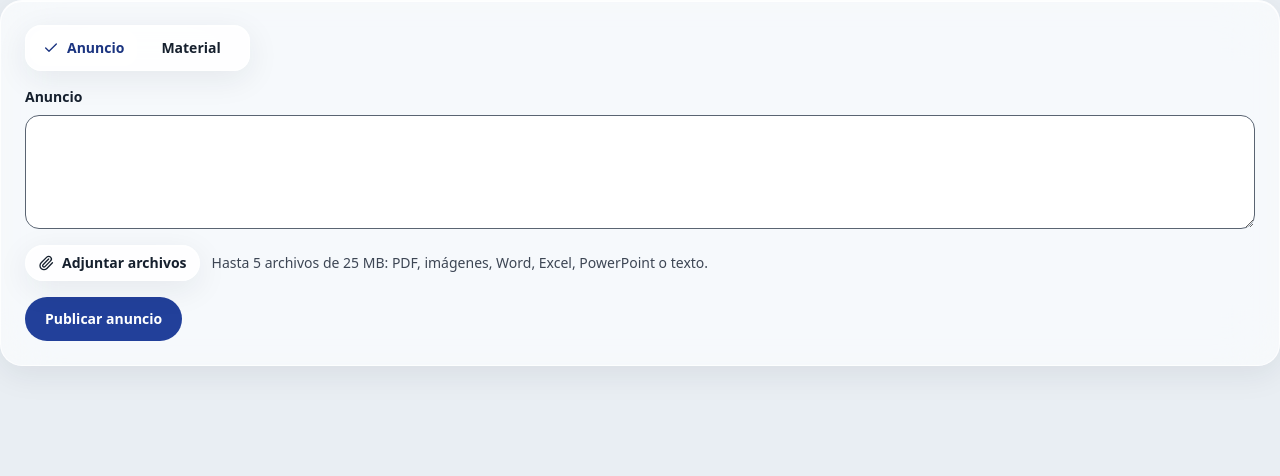
Scenario: FormularioPublicacion › PR-C09f: con «Material», el formulario pide el título
The image size is (1280, 476).
Expected: the field labelled "Título del material" is not shown
Expected: the text box labelled "Anuncio" is shown, [25,115,1255,229]
Click the button "Material".
click(191, 48)  # box [137,30,245,66]
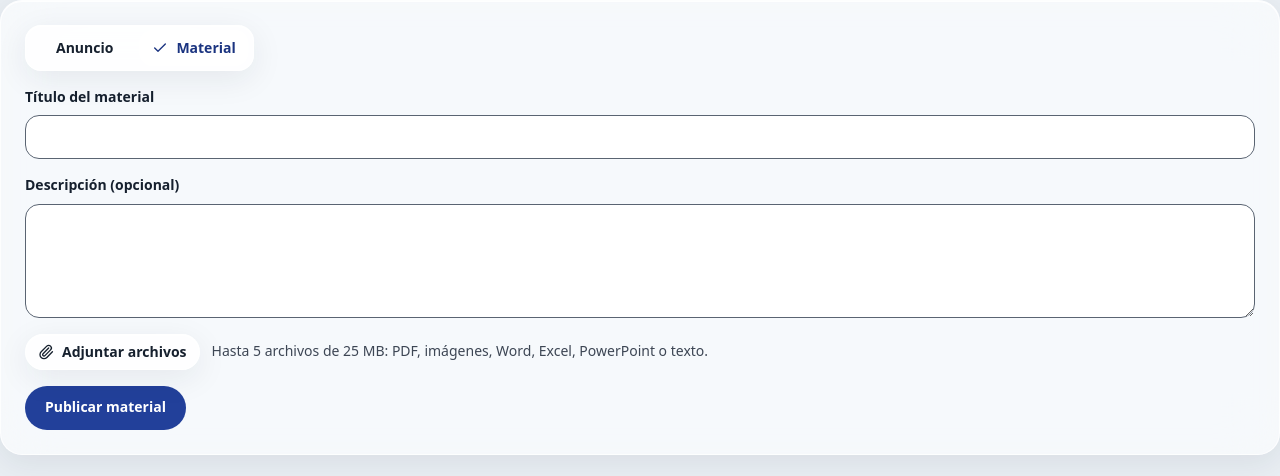
Expected: the text box labelled "Descripción (opcional)" is shown, [25,204,1255,318]
Expected: the field labelled "Título del material" is shown, [25,115,1255,159]
